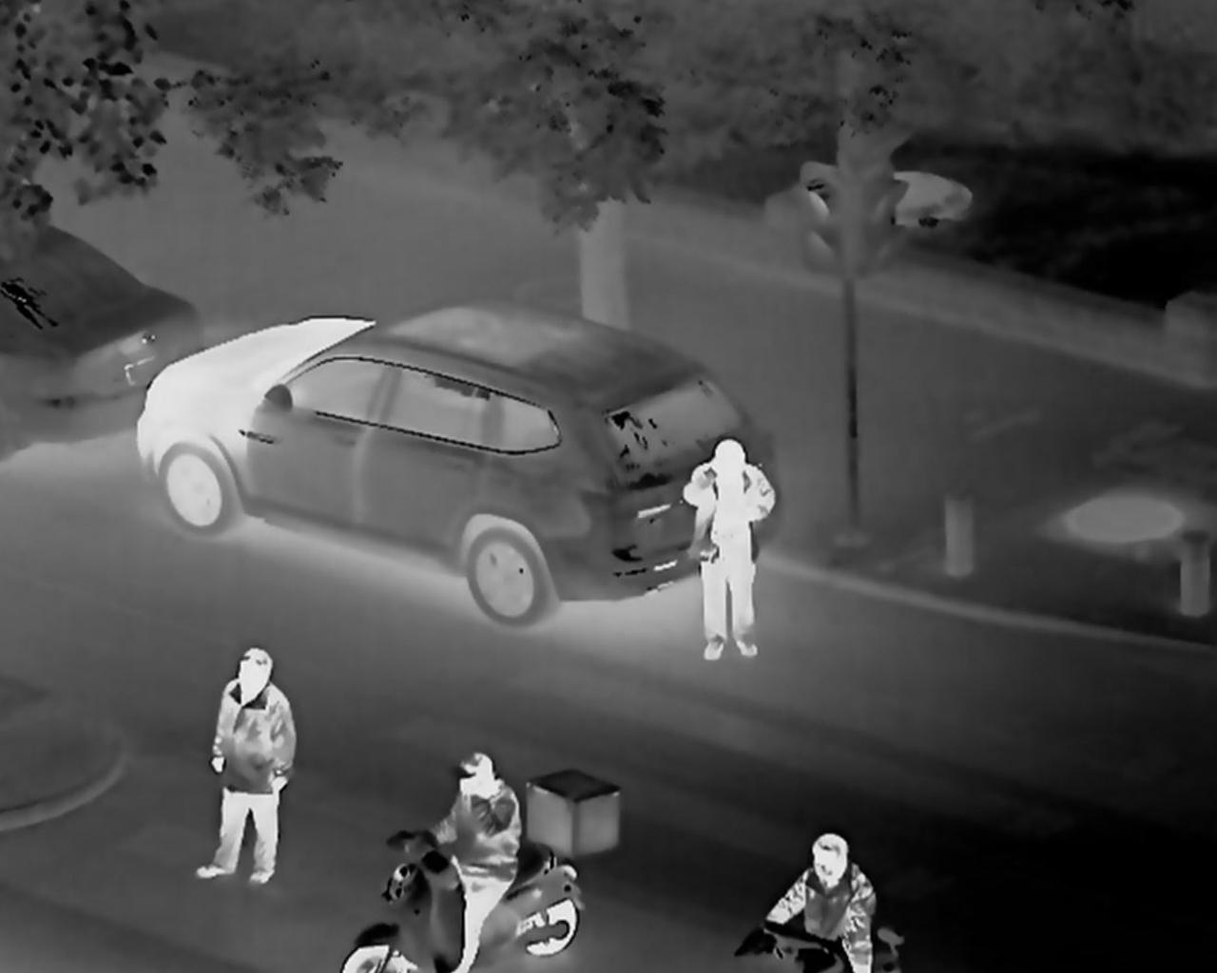person: (669, 437, 777, 684), (429, 752, 529, 973), (224, 635, 299, 880), (749, 826, 864, 973)
